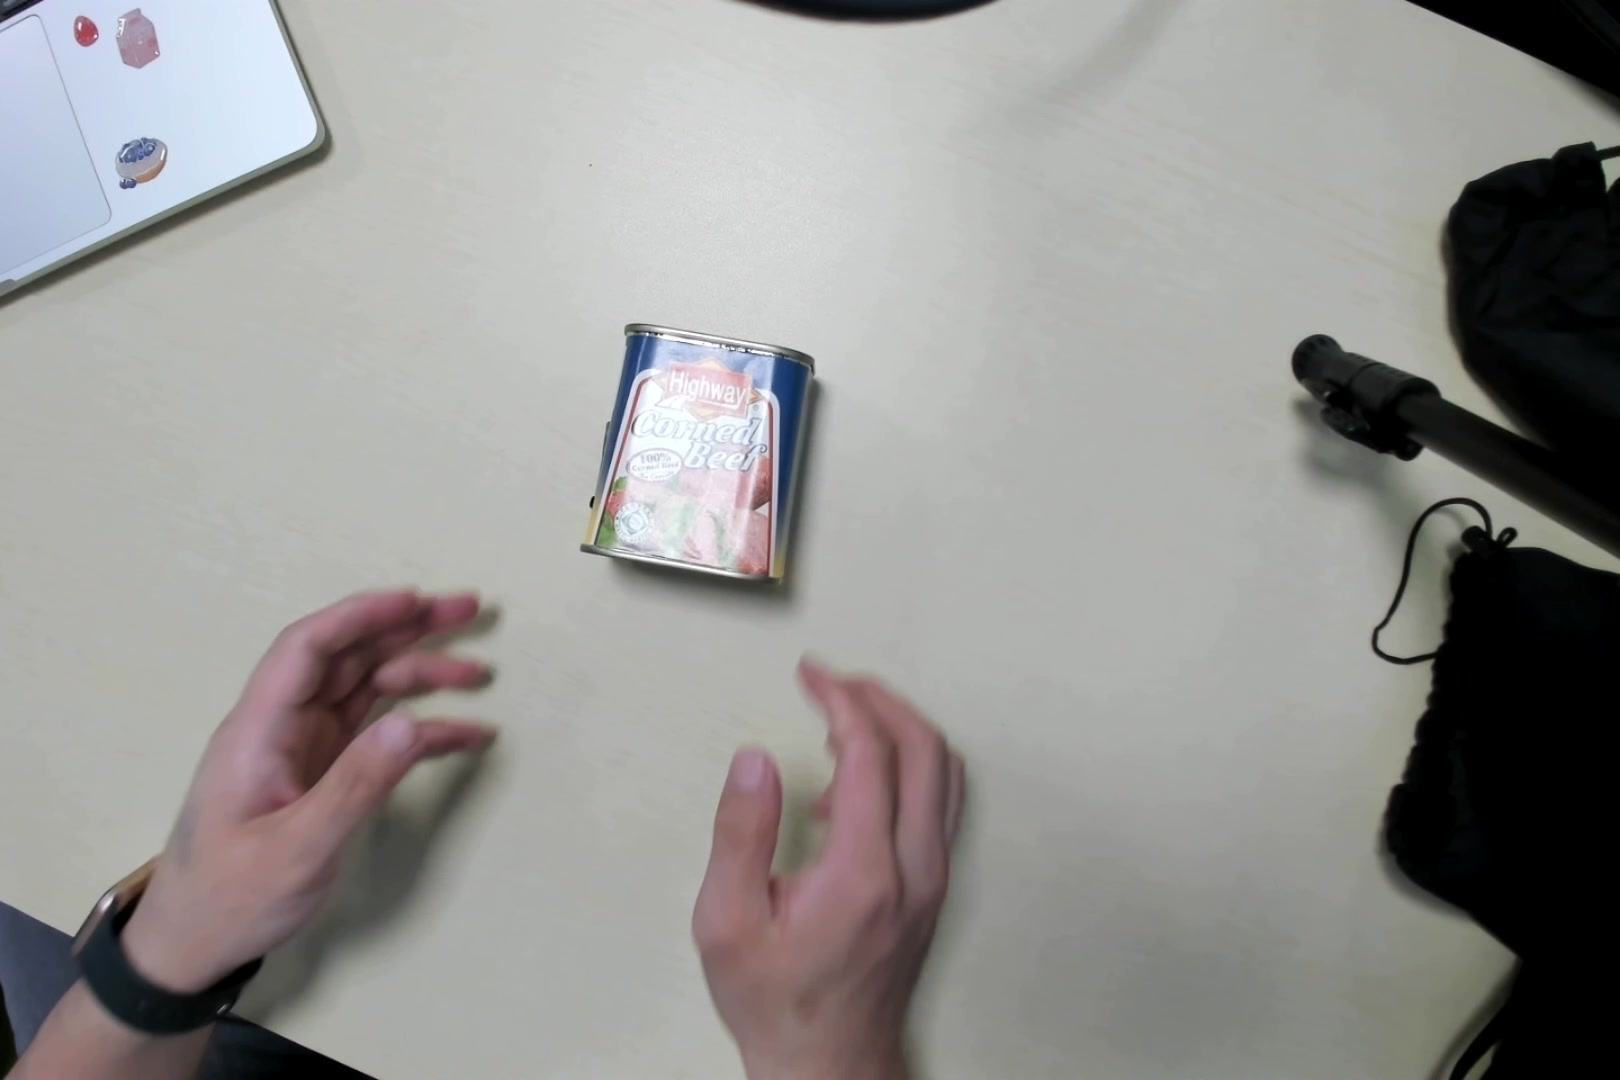CannedBeefOtherMeats_300-399g_Halal_NonHealthy: (576, 315, 810, 589)
